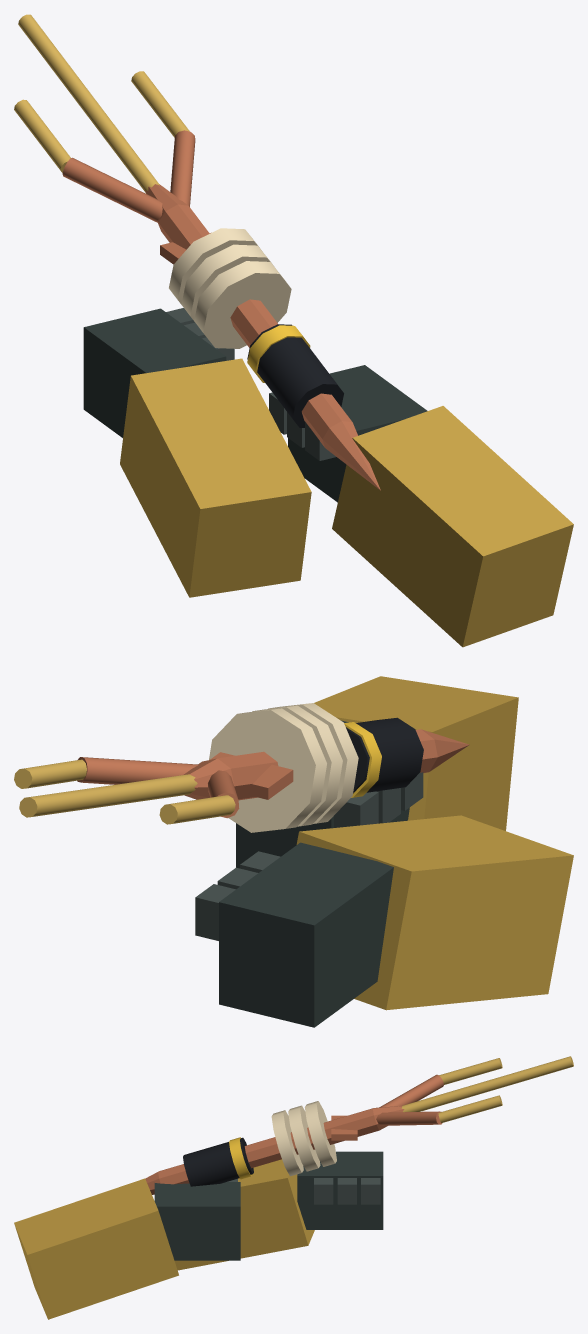
The model's file is lightning_rod.glb.
3 views of the same model, one above another, from view 1: azimuth 30°, elevation 25°; view 2: azimuth 150°, elevation 25°; view 3: azimuth 270°, elevation 25° (orthographic). The views are drawn at different scales.
Visible parts, largest first — view 1: _MeshInstance3D_4135, _MeshInstance3D_4129, _MeshInstance3D_4128, _MeshInstance3D_4115, _MeshInstance3D_4134, _MeshInstance3D_4116, _MeshInstance3D_4124, _MeshInstance3D_4123, _MeshInstance3D_4119, _MeshInstance3D_4117, _MeshInstance3D_4118, _MeshInstance3D_4121 (+3 smaller); view 2: _MeshInstance3D_4129, _MeshInstance3D_4128, _MeshInstance3D_4135, _MeshInstance3D_4118, _MeshInstance3D_4124, _MeshInstance3D_4123, _MeshInstance3D_4115, _MeshInstance3D_4121, _MeshInstance3D_4117, _MeshInstance3D_4116, _MeshInstance3D_4134, _MeshInstance3D_4120 (+10 smaller); view 3: _MeshInstance3D_4135, _MeshInstance3D_4134, _MeshInstance3D_4129, _MeshInstance3D_4128, _MeshInstance3D_4115, _MeshInstance3D_4123, _MeshInstance3D_4124, _MeshInstance3D_4118, _MeshInstance3D_4117, _MeshInstance3D_4116, _MeshInstance3D_4121, _MeshInstance3D_4119 (+7 smaller).
Part boxes in pixels (box(x1,y1,x2,y2)): _MeshInstance3D_4135: box(332, 406, 573, 647); _MeshInstance3D_4129: box(120, 358, 311, 597); _MeshInstance3D_4128: box(83, 308, 226, 437); _MeshInstance3D_4115: box(145, 184, 380, 490); _MeshInstance3D_4134: box(288, 365, 427, 502); _MeshInstance3D_4116: box(194, 261, 291, 348); _MeshInstance3D_4124: box(247, 324, 343, 427); _MeshInstance3D_4123: box(18, 14, 159, 193); _MeshInstance3D_4119: box(62, 157, 162, 222); _MeshInstance3D_4117: box(181, 244, 274, 320); _MeshInstance3D_4118: box(169, 228, 259, 304); _MeshInstance3D_4121: box(170, 130, 195, 206); _MeshInstance3D_4129: box(296, 815, 573, 1010); _MeshInstance3D_4128: box(219, 842, 393, 1027); _MeshInstance3D_4135: box(314, 676, 518, 830); _MeshInstance3D_4118: box(209, 708, 326, 832); _MeshInstance3D_4124: box(346, 717, 423, 793); _MeshInstance3D_4123: box(19, 774, 197, 817); _MeshInstance3D_4115: box(183, 729, 469, 800); _MeshInstance3D_4121: box(77, 757, 197, 784); _MeshInstance3D_4117: box(252, 705, 342, 826); _MeshInstance3D_4116: box(268, 703, 358, 823); _MeshInstance3D_4134: box(236, 720, 409, 868); _MeshInstance3D_4120: box(159, 795, 235, 824); _MeshInstance3D_4135: box(14, 1178, 178, 1319); _MeshInstance3D_4134: box(154, 1182, 240, 1260); _MeshInstance3D_4129: box(174, 1159, 314, 1270); _MeshInstance3D_4128: box(297, 1151, 383, 1229); _MeshInstance3D_4115: box(145, 1106, 404, 1194); _MeshInstance3D_4123: box(401, 1056, 573, 1112); _MeshInstance3D_4124: box(183, 1137, 253, 1186); _MeshInstance3D_4118: box(304, 1101, 336, 1166); _MeshInstance3D_4117: box(288, 1105, 320, 1171); _MeshInstance3D_4116: box(271, 1110, 303, 1176); _MeshInstance3D_4121: box(376, 1111, 442, 1125); _MeshInstance3D_4119: box(379, 1074, 443, 1107).
Bounding box in the file's own units: 0.1445 × 0.1773 × 0.4044.
